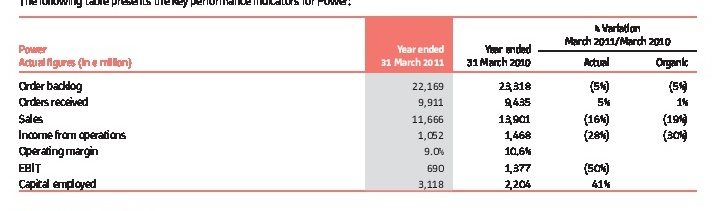table: (0, 0, 713, 211)
